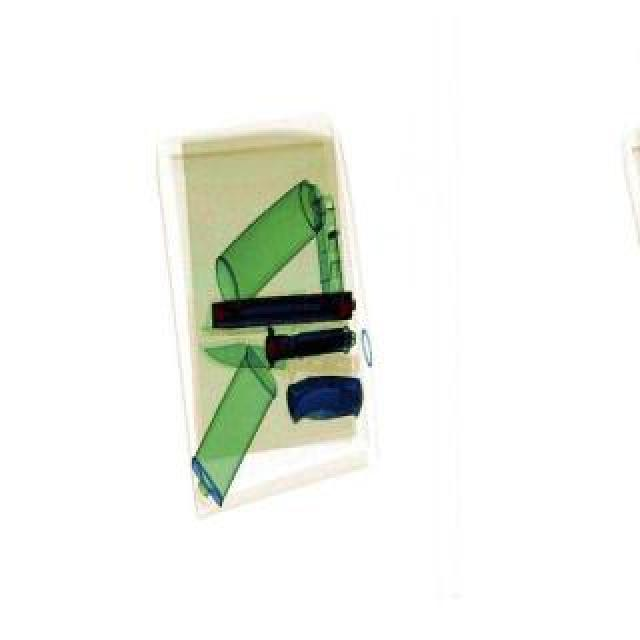knife: (284, 372, 370, 422), (264, 320, 360, 364), (204, 338, 288, 370)
